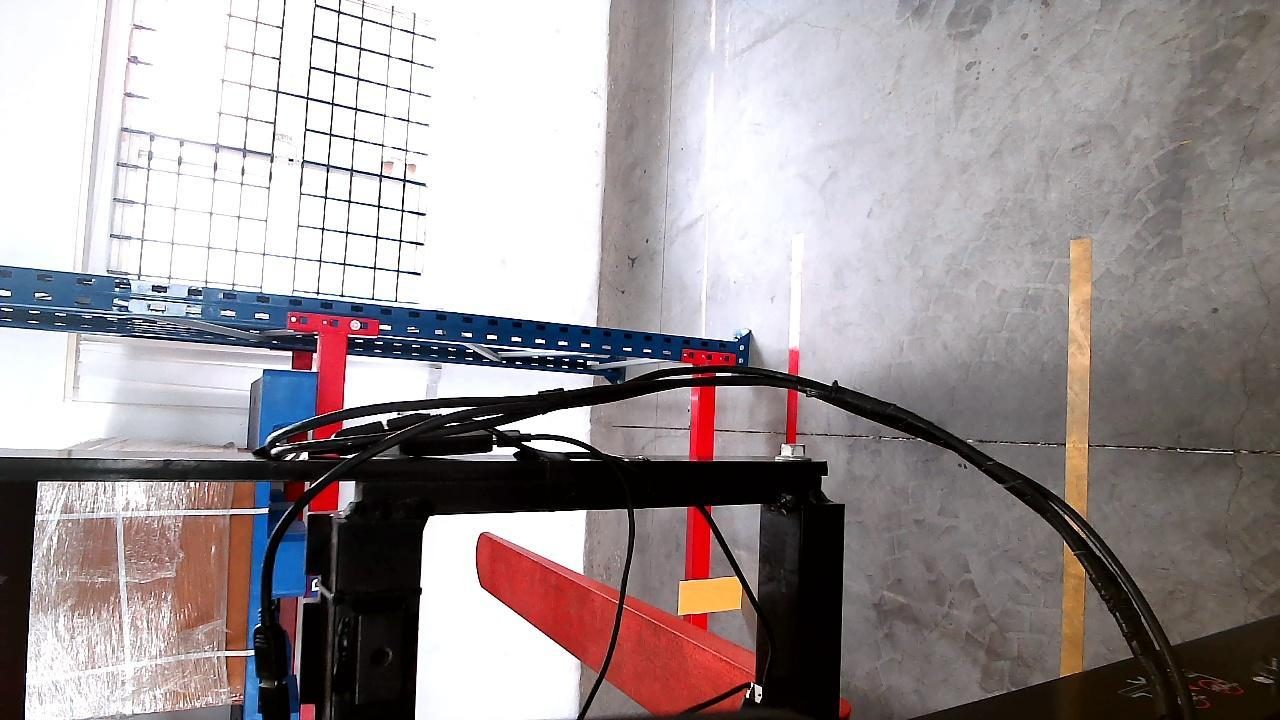red_line: (786, 232, 806, 442)
yellow_line: (1062, 233, 1092, 689)
